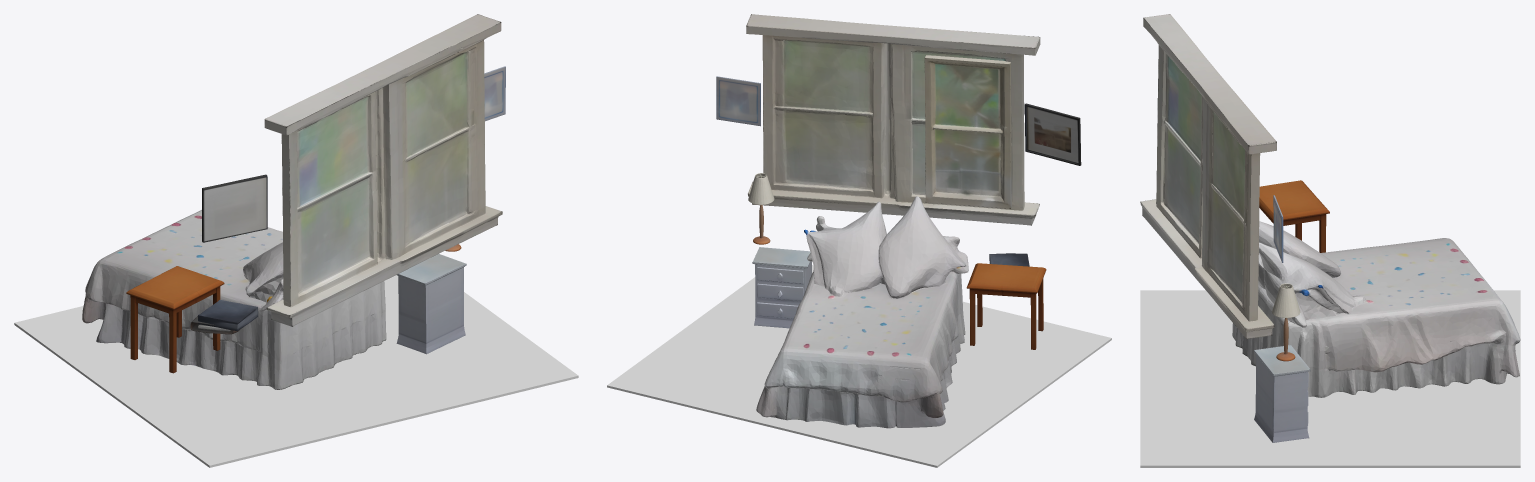
File: stage1.glb
The picture shows the model from 3 angles, left to right: view 1: azimuth 30°, elevation 25°; view 2: azimuth 150°, elevation 25°; view 3: azimuth 270°, elevation 25°; orthographic projection. The views are drawn at different scales.
Visible parts, largest first — view 1: obj_9, floor, obj_5, obj_2, obj_10, obj_3, obj_14, obj_4; view 2: obj_9, obj_5, floor, obj_11, obj_2, obj_10, obj_3, obj_4, obj_1; view 3: floor, obj_5, obj_9, obj_2, obj_10, obj_1, obj_4.
Boxes of the visible parts, <box> form: obj_9: <box>264,14,502,326</box>; floor: <box>14,275,578,467</box>; obj_5: <box>82,210,386,389</box>; obj_2: <box>396,254,466,354</box>; obj_10: <box>126,266,224,373</box>; obj_3: <box>202,174,267,242</box>; obj_14: <box>198,299,258,331</box>; obj_4: <box>484,66,505,121</box>; obj_9: <box>746,14,1040,225</box>; obj_5: <box>756,196,968,428</box>; floor: <box>607,265,1111,467</box>; obj_11: <box>924,55,1011,208</box>; obj_2: <box>752,247,811,328</box>; obj_10: <box>966,263,1046,349</box>; obj_3: <box>1024,103,1081,165</box>; obj_4: <box>716,76,760,126</box>; obj_1: <box>748,173,774,244</box>; floor: <box>1140,290,1520,467</box>; obj_5: <box>1232,221,1520,397</box>; obj_9: <box>1140,14,1276,338</box>; obj_2: <box>1254,345,1310,442</box>; obj_10: <box>1259,180,1329,252</box>; obj_1: <box>1272,283,1300,361</box>; obj_4: <box>1273,195,1283,262</box>.
Size of the model in its own units: 1.7 by 1.41 by 1.56.
Materials: 10 (10 with a texture image).
